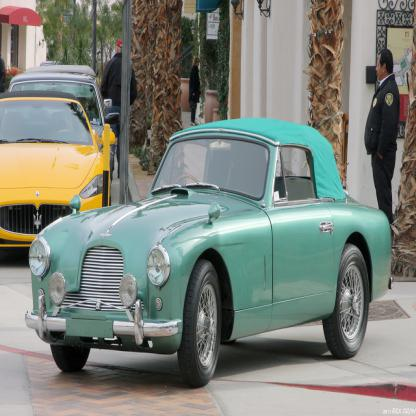Car: (0, 61, 394, 388)
